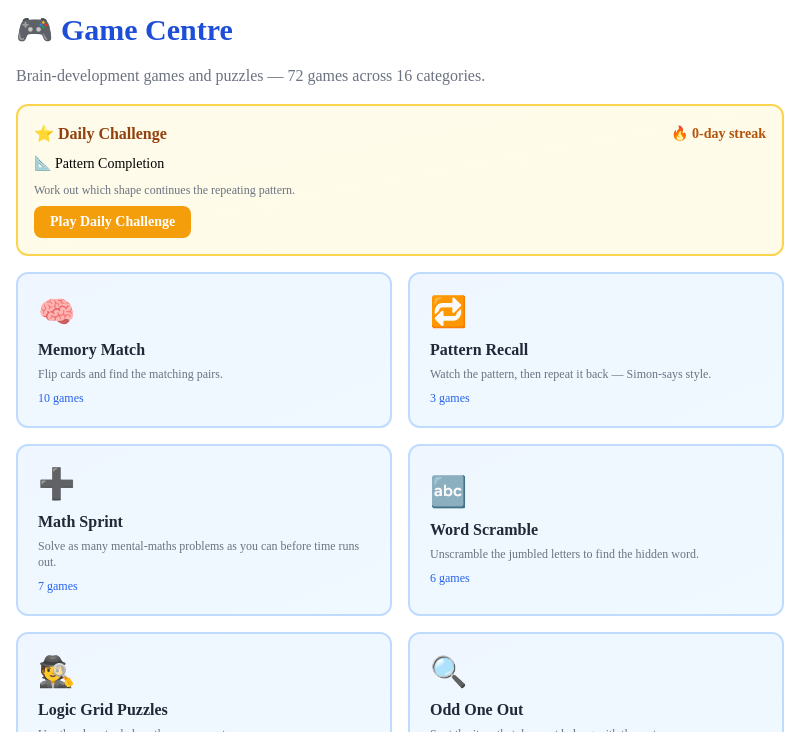
Test: Games (Game Centre) › drills into a category to show its games, then into a game to play it
Click the text "Memory Match": x=92, y=350 [38, 341, 145, 358]
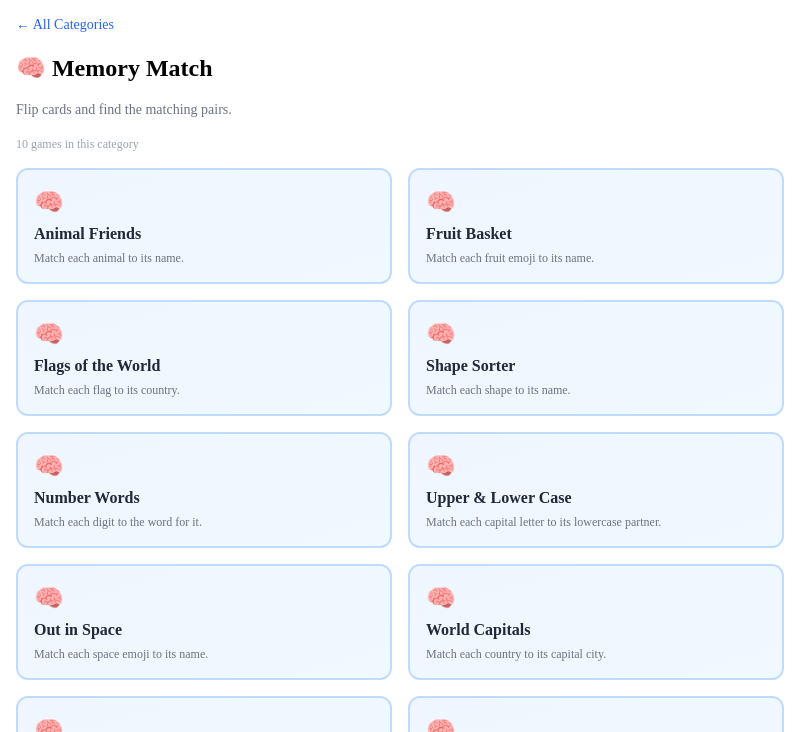
Expected: the button "← All Categories" is shown, [16, 15, 114, 35]
Expected: the text "Animal Friends" is shown
Click the text "Animal Friends": x=88, y=234 [34, 225, 141, 242]
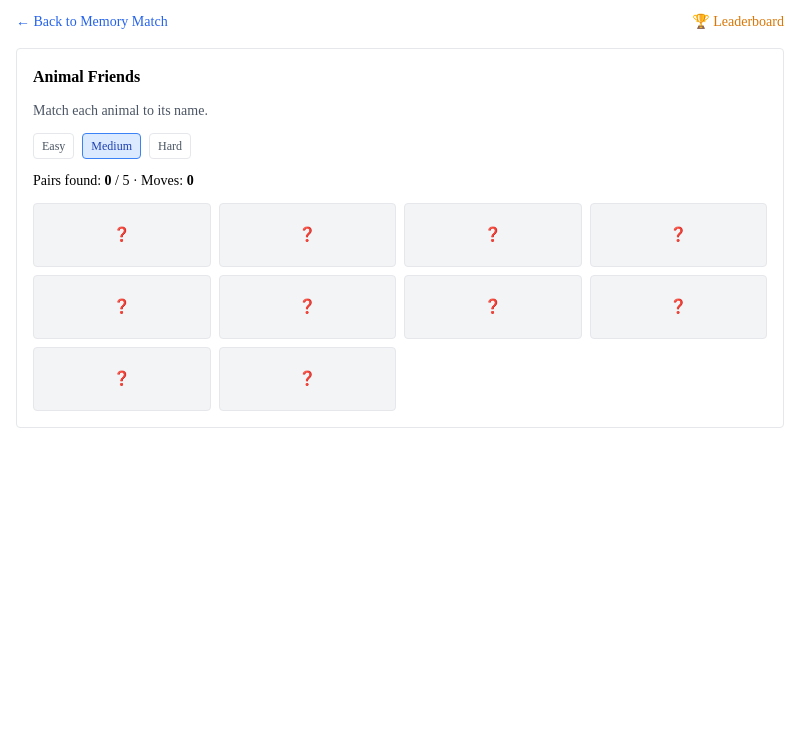
Expected: the button "← Back to Memory Match" is shown, [16, 12, 168, 32]
Expected: the 1st button "❓" is shown, [33, 203, 210, 267]
